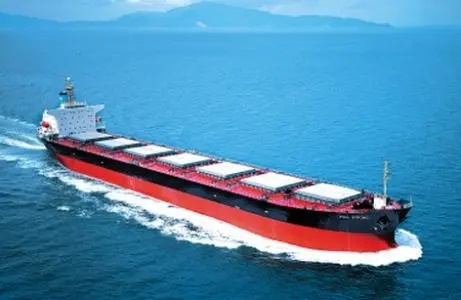Cargoship: (33, 75, 415, 262)
